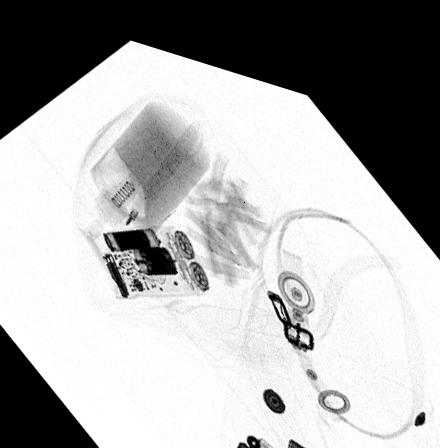Lighter: (228, 417, 280, 448)
